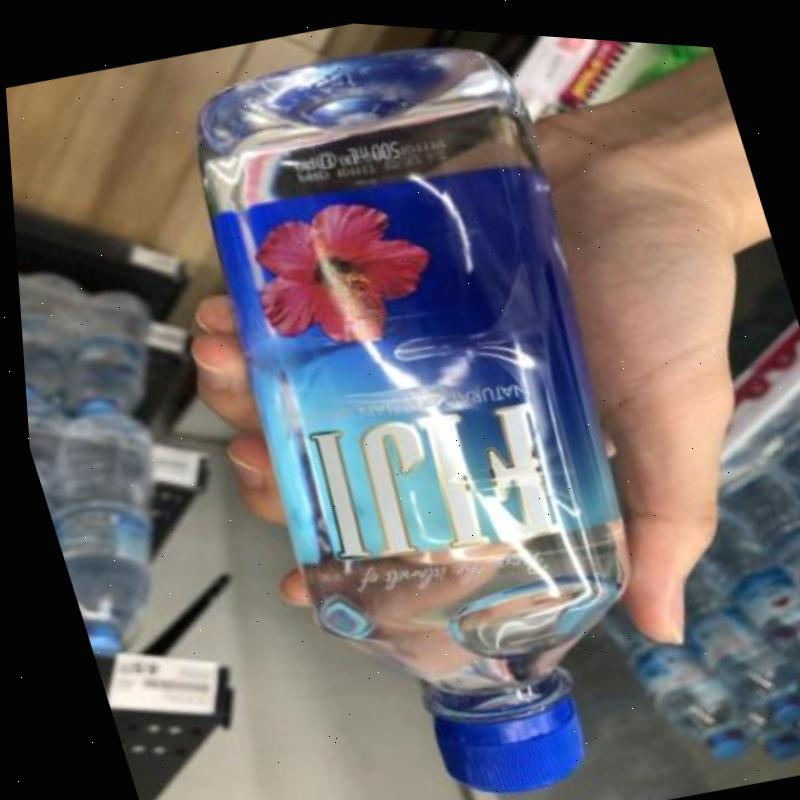botella: (145, 8, 721, 800), (21, 398, 205, 665), (585, 565, 743, 769), (664, 469, 800, 698), (661, 553, 800, 730), (709, 438, 800, 654), (44, 271, 171, 421), (14, 263, 92, 420), (733, 391, 800, 553), (727, 687, 800, 760), (781, 654, 800, 716), (784, 703, 800, 761)
